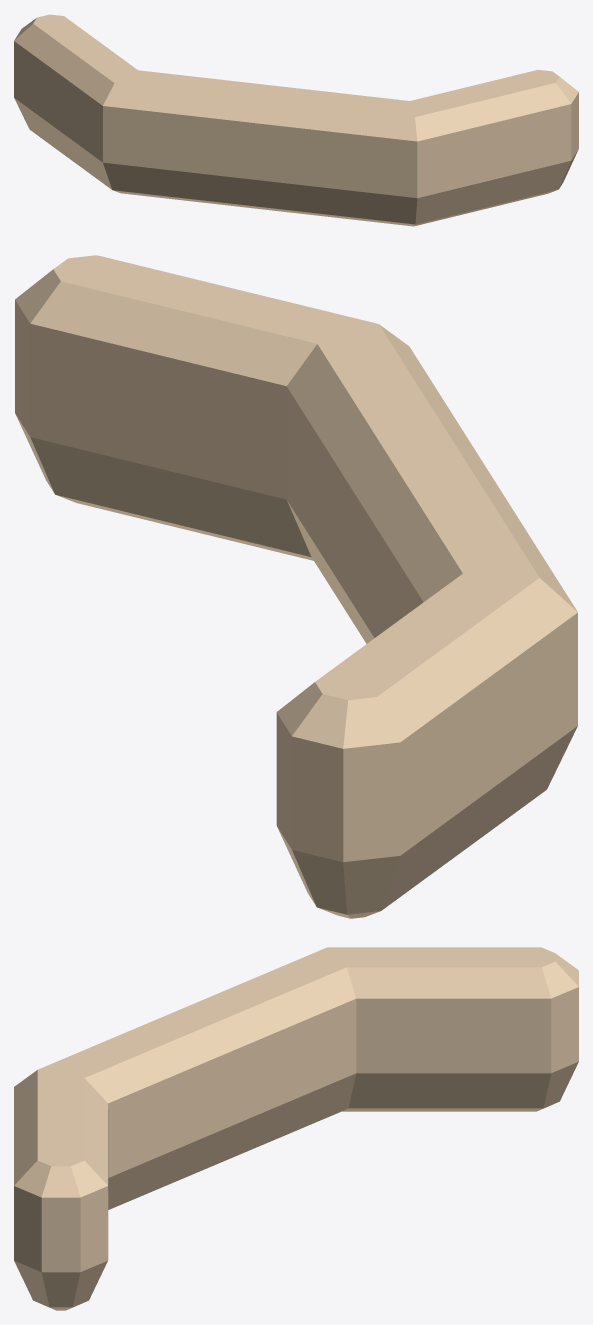
File: opengameart-modular-temple-3d-models-2_2.glb
3 views of the same model, one above another, from view 1: azimuth 30°, elevation 25°; view 2: azimuth 150°, elevation 25°; view 3: azimuth 270°, elevation 25° (orthographic). The views are drawn at different scales.
Parts seen in each view (by area): view 1: object1; view 2: object1; view 3: object1.
Boxes of the visible parts, x1,y1,x2,y2 form: object1: (14,14,578,226); object1: (15,255,577,918); object1: (14,947,578,1310).
Size of the model in its own units: 1.2 by 0.35 by 1.2.
